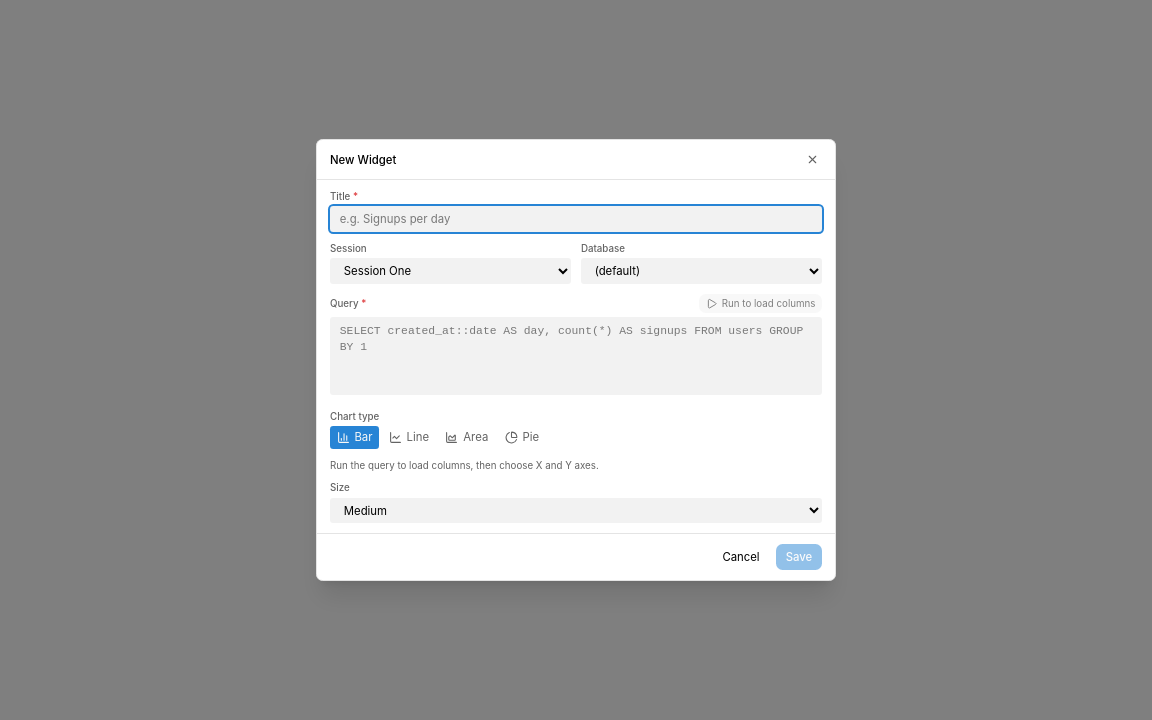
Scenario: WidgetEditor › toggling a Y series off blocks saving (Y columns required)
The width and height of the screenshot is (1152, 720).
Type "T" into the field with placeholder "e.g. Signups per day" at (576, 219), box left=330, top=206, right=822, bottom=232
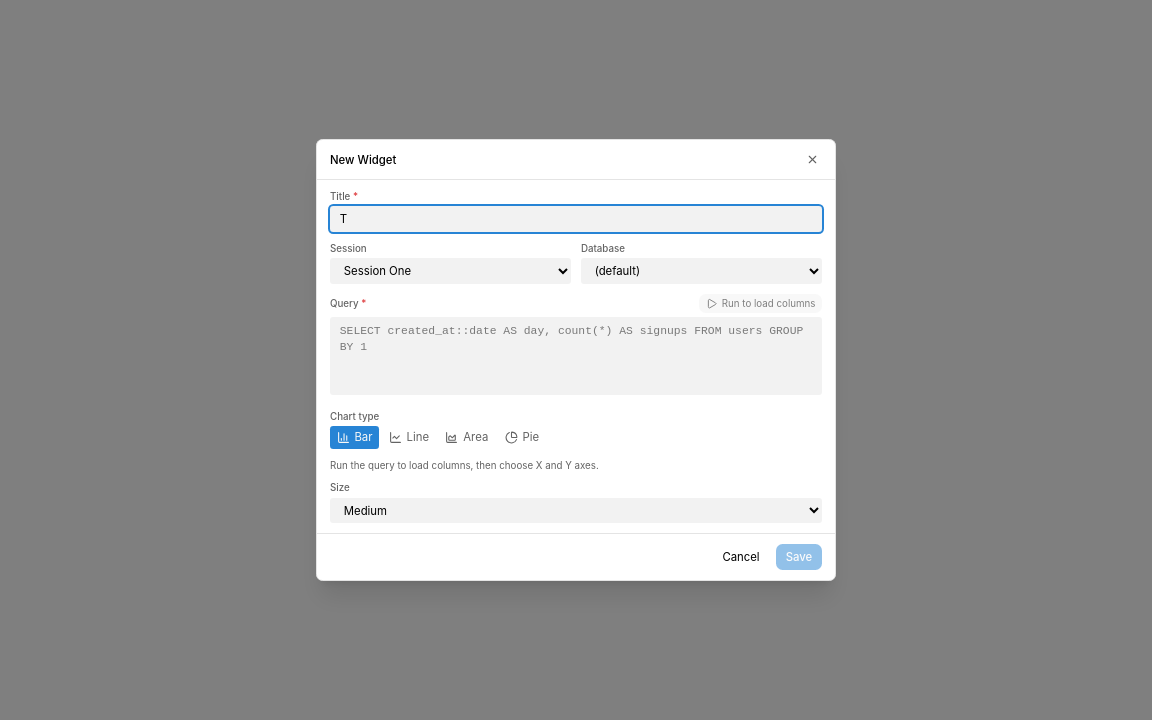
Type "SELECT 1" into the text box with placeholder "SELECT created_at" at (576, 356), box left=330, top=317, right=822, bottom=395
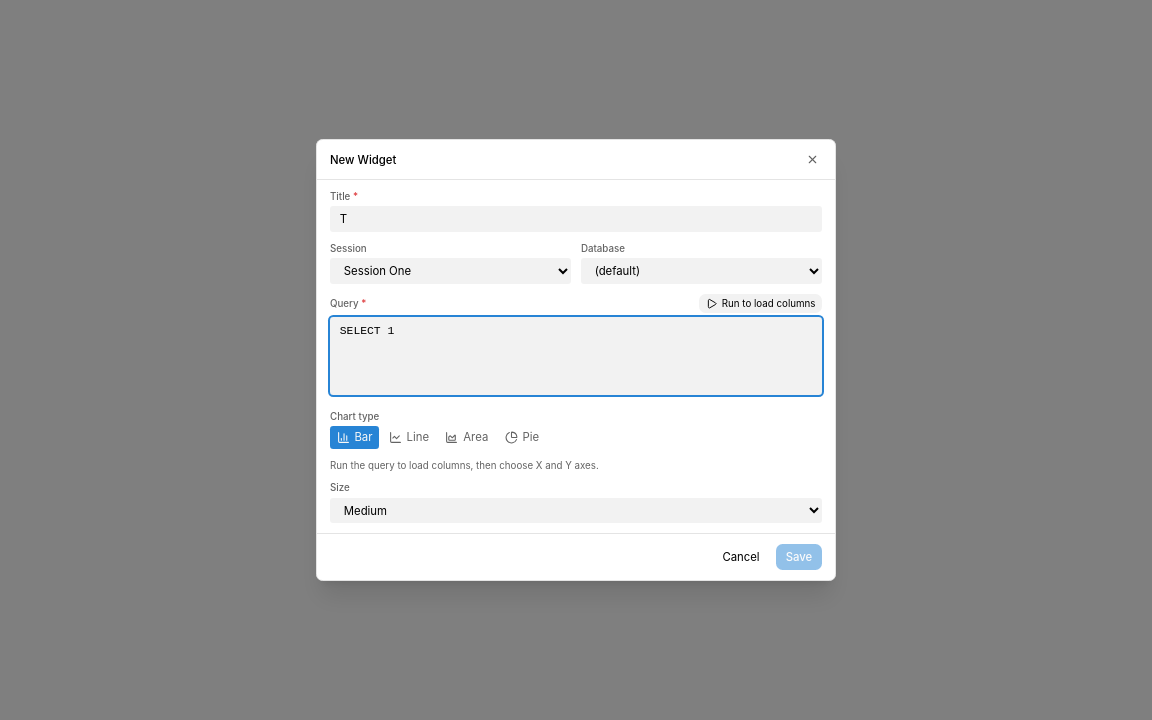
Click the button "Run to load columns" at (760, 304), box left=699, top=294, right=822, bottom=313
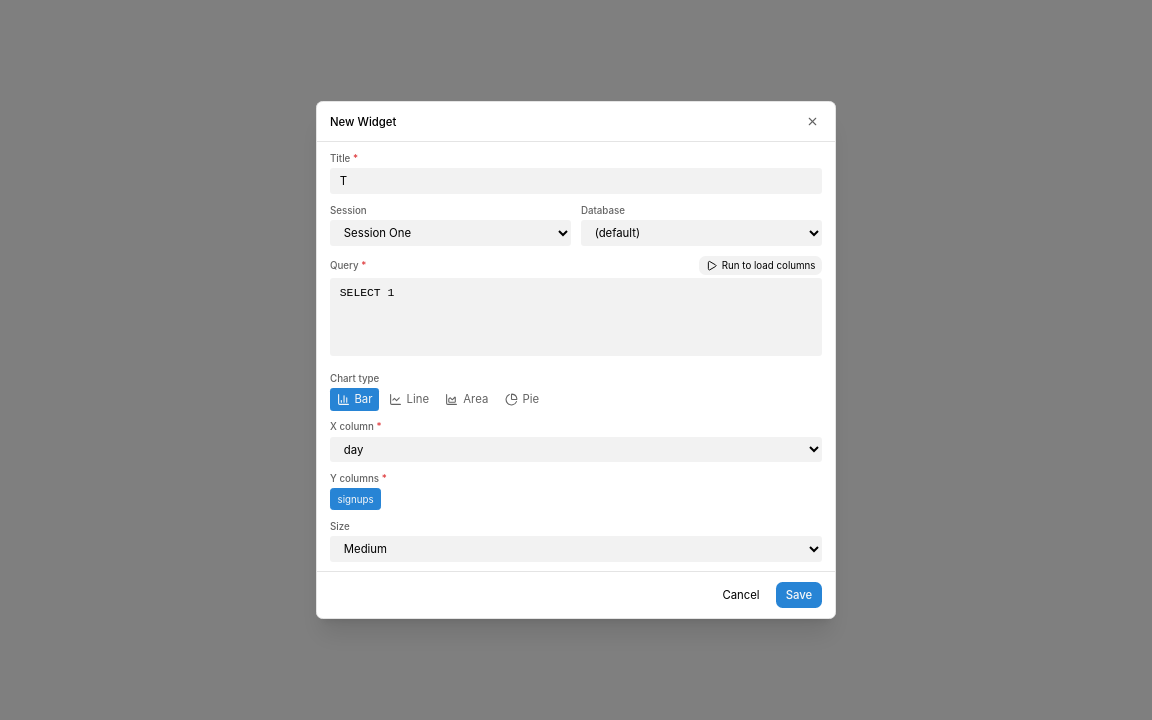
Expected: the button "signups" is shown
Expected: the button "Save" is enabled, left=776, top=582, right=822, bottom=608
Click the button "signups" at (356, 499), box left=330, top=488, right=381, bottom=510
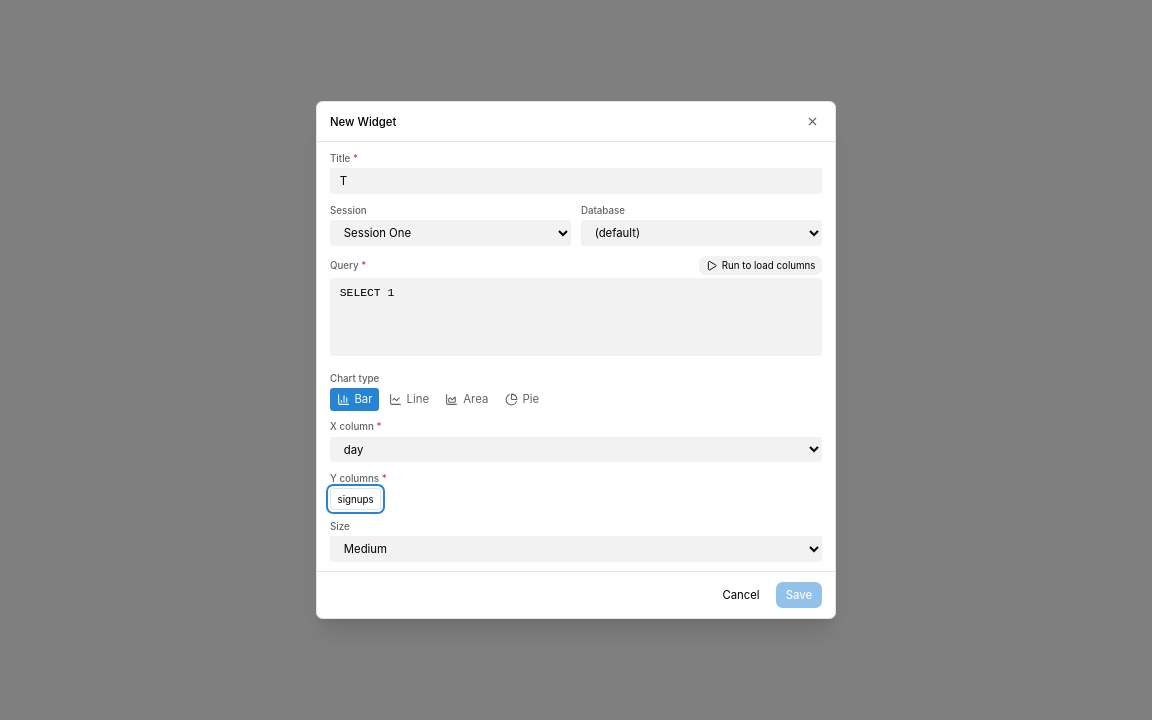
Expected: the button "Save" is disabled, left=776, top=582, right=822, bottom=608
